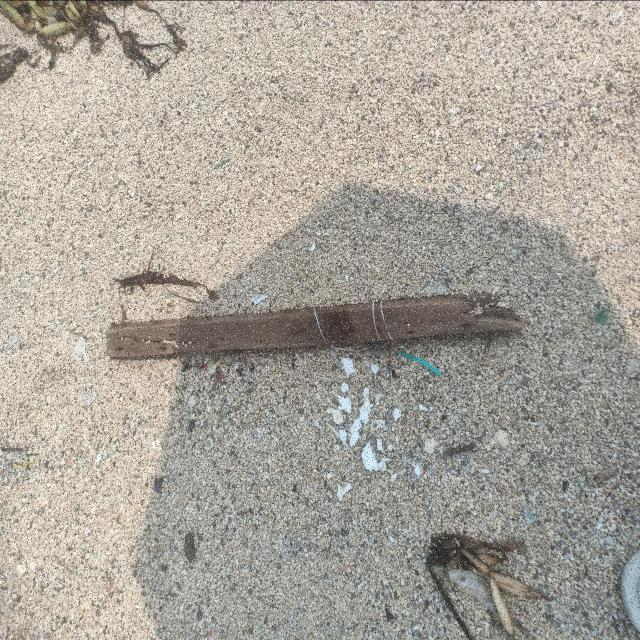wood_waste: (104, 290, 530, 365)
